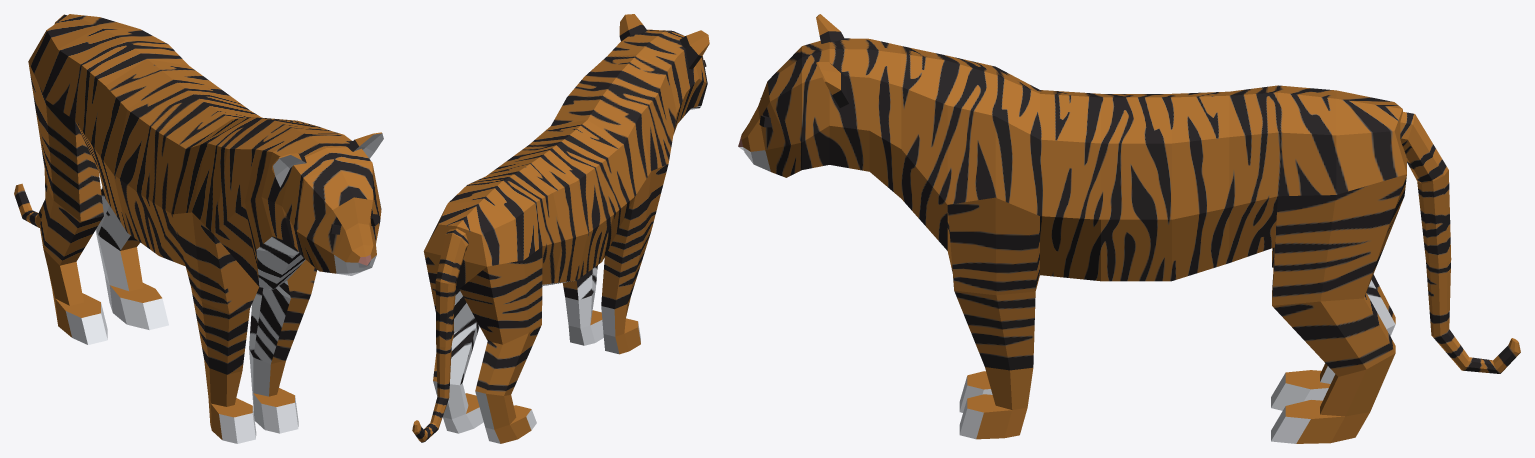
File: MeshBengalTiger.obj
3 renders of one model, left to right at view 1: azimuth 30°, elevation 25°; view 2: azimuth 150°, elevation 25°; view 3: azimuth 270°, elevation 25°, orthographic. The views are drawn at different scales.
Visible parts, largest first — view 1: Geo_BengalTiger; view 2: Geo_BengalTiger; view 3: Geo_BengalTiger.
Boxes of the visible parts, x1,y1,x2,y2 form: Geo_BengalTiger: (14, 14, 383, 443); Geo_BengalTiger: (412, 14, 709, 443); Geo_BengalTiger: (738, 14, 1520, 443).
Size of the model in its own units: 45.11 by 123 by 230.
1 material, 1 textured.
